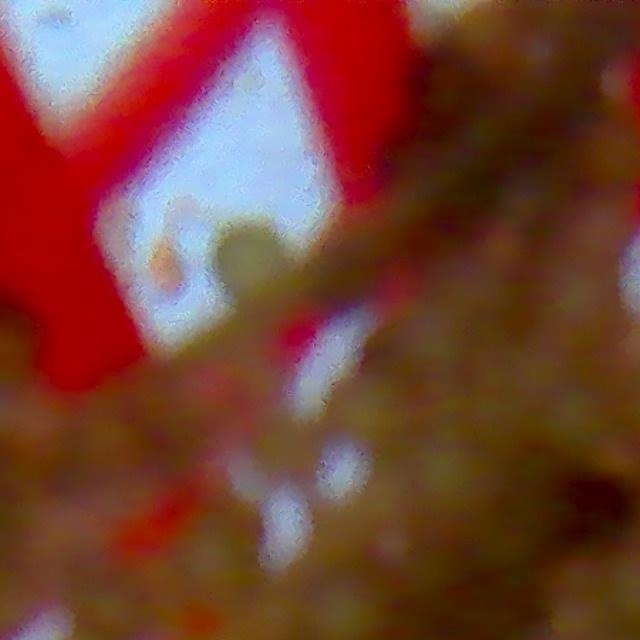SeaGrape: (165, 494, 270, 585), (543, 267, 620, 362), (370, 317, 452, 399), (558, 399, 635, 481), (587, 122, 640, 195), (477, 223, 532, 280)
